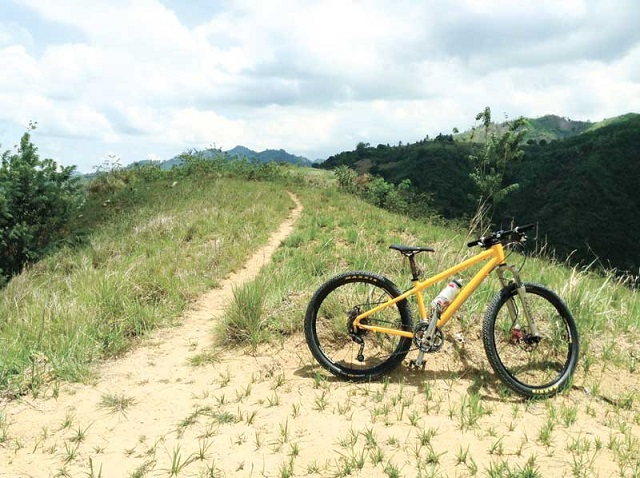bike: (303, 229, 583, 397)
tree: (1, 125, 69, 275)
